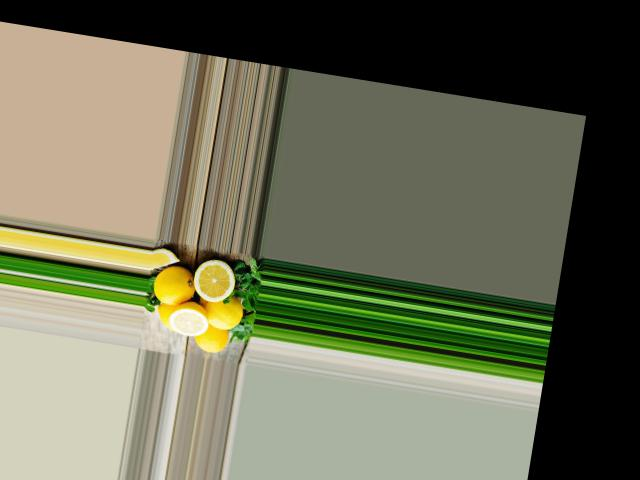lemon: (153, 299, 180, 330)
